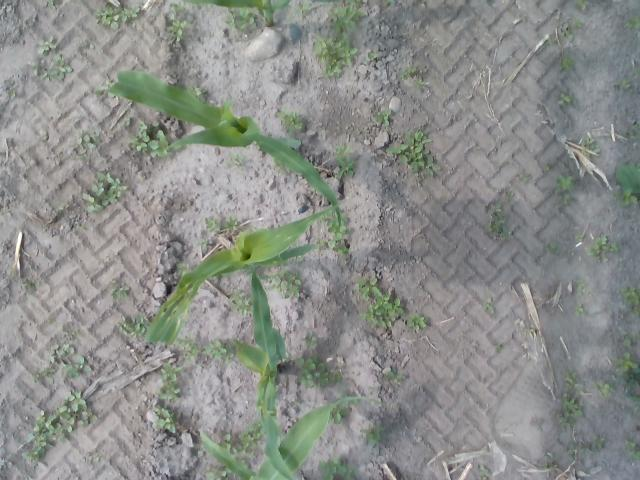Maize: (106, 71, 343, 229), (144, 202, 344, 344), (200, 396, 390, 480), (235, 270, 294, 480), (182, 0, 291, 27)
Weeds: (22, 387, 102, 465), (313, 6, 367, 79), (384, 128, 441, 176), (32, 342, 92, 387), (356, 276, 404, 328), (82, 170, 130, 214), (554, 362, 584, 431), (29, 38, 74, 82), (296, 354, 344, 390), (127, 121, 168, 159), (317, 212, 350, 254), (93, 5, 142, 30), (266, 268, 302, 300), (616, 161, 640, 206), (318, 455, 361, 480), (156, 362, 182, 402), (485, 202, 510, 243), (200, 337, 234, 367), (233, 420, 263, 454), (544, 19, 584, 44), (71, 128, 102, 159), (567, 434, 606, 458), (168, 3, 190, 45), (116, 310, 148, 338), (586, 234, 618, 262), (227, 6, 258, 32), (335, 144, 357, 180), (618, 367, 640, 402), (358, 418, 385, 446), (275, 104, 305, 128), (152, 404, 176, 434), (230, 286, 252, 316), (180, 336, 202, 364), (621, 285, 640, 316), (611, 352, 640, 372), (555, 173, 572, 207), (94, 74, 116, 99), (405, 310, 428, 332), (378, 366, 406, 384), (592, 377, 616, 398), (110, 280, 131, 302), (204, 463, 230, 480), (202, 214, 224, 234), (558, 50, 578, 72), (623, 437, 640, 461), (372, 106, 392, 126), (21, 278, 44, 295), (621, 328, 640, 347), (330, 408, 351, 425), (188, 83, 210, 99), (224, 216, 242, 235), (582, 137, 600, 155), (575, 276, 588, 300), (301, 330, 318, 348), (622, 15, 640, 31), (557, 94, 576, 108), (520, 168, 534, 187), (296, 4, 312, 20), (195, 239, 211, 255), (624, 406, 640, 422), (400, 63, 415, 80), (232, 154, 250, 168), (543, 452, 557, 470), (626, 122, 640, 139), (178, 262, 192, 278), (42, 0, 62, 11), (475, 464, 488, 480), (575, 0, 592, 11), (484, 296, 494, 314), (274, 159, 286, 173), (221, 434, 233, 448), (574, 304, 588, 316), (620, 79, 633, 91), (288, 400, 302, 411), (504, 189, 515, 202), (8, 86, 18, 100), (346, 0, 366, 7), (196, 443, 206, 456), (548, 241, 558, 254), (367, 50, 379, 60), (70, 330, 80, 340), (574, 234, 584, 244), (493, 343, 502, 354), (524, 327, 536, 335), (544, 163, 554, 172), (59, 203, 70, 211), (125, 115, 132, 127), (416, 78, 422, 91), (633, 67, 640, 78), (6, 268, 14, 276), (77, 227, 86, 232)
